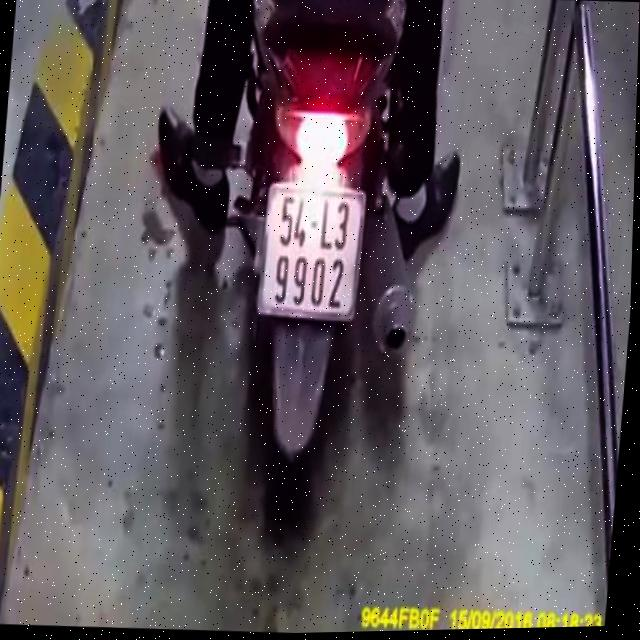motorcycle: (190, 0, 447, 517)
plate: (248, 178, 371, 330)
